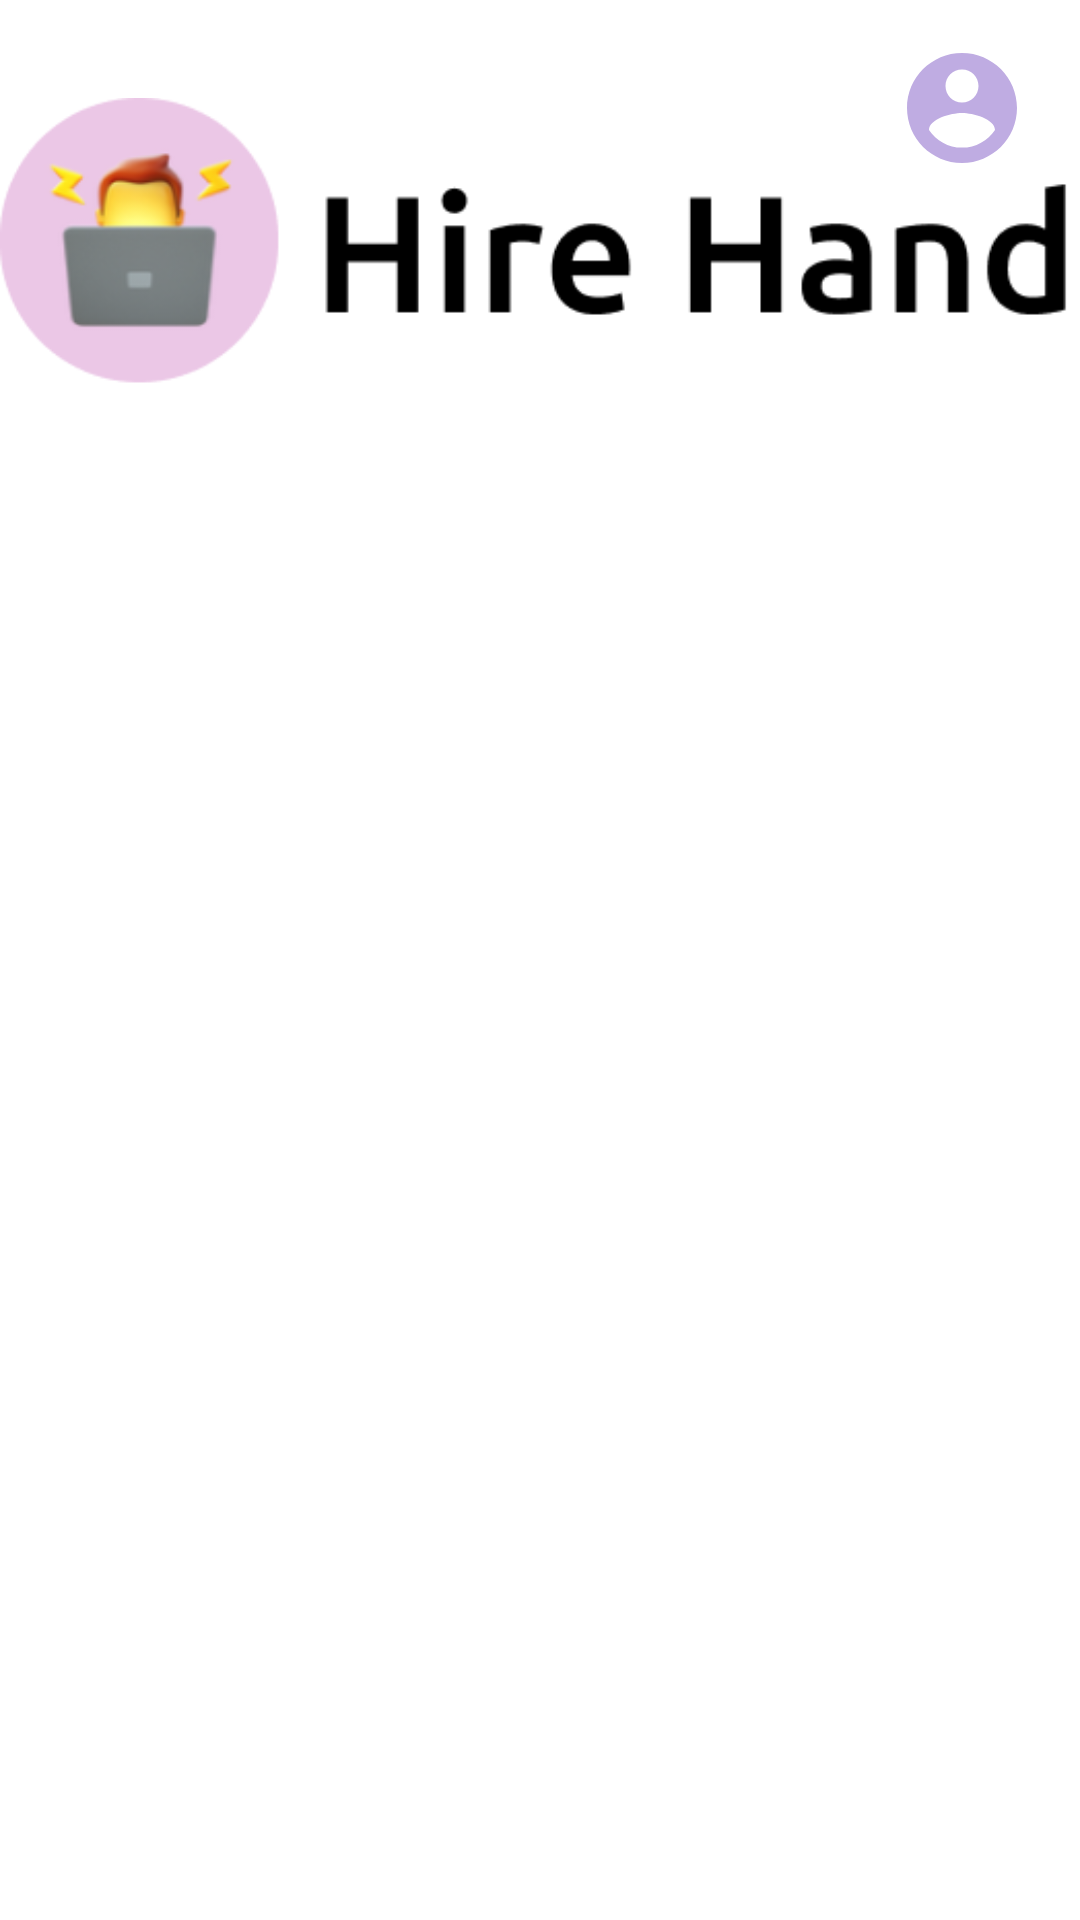

Icon bounding boxes for this 1080×1920 phone screenshot, format (x1, y1, x2, y2):
account circle: (907, 53, 1017, 163)
